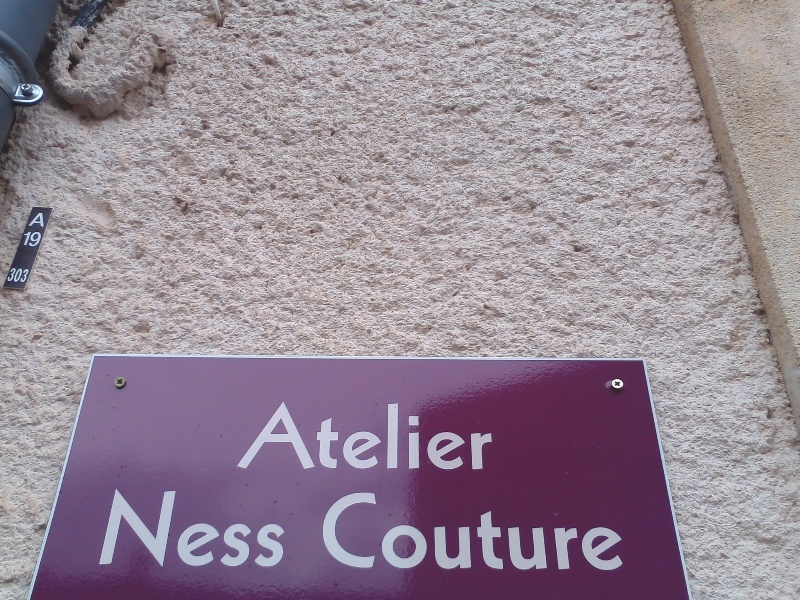text: (337, 490, 352, 577), (353, 490, 368, 577), (369, 490, 384, 577), (385, 490, 400, 577), (401, 490, 416, 577), (417, 490, 432, 577), (433, 490, 448, 577), (449, 490, 464, 577), (465, 490, 480, 577), (481, 490, 496, 577), (497, 490, 512, 577), (513, 490, 528, 577), (529, 490, 544, 577), (545, 490, 560, 577), (561, 490, 576, 577), (577, 490, 592, 577), (593, 490, 608, 577), (609, 490, 624, 577), (113, 488, 128, 570), (129, 488, 144, 570), (145, 488, 160, 570), (161, 488, 176, 570), (177, 488, 192, 570), (193, 488, 208, 570), (209, 488, 224, 570), (225, 488, 240, 570), (241, 488, 256, 570), (257, 488, 272, 570), (273, 488, 288, 570), (289, 399, 304, 472), (305, 399, 320, 472), (321, 399, 336, 472), (337, 399, 352, 472), (353, 399, 368, 472), (369, 399, 384, 472), (385, 399, 400, 472), (401, 399, 416, 472), (417, 399, 432, 472), (433, 399, 448, 472), (449, 399, 464, 472), (465, 399, 480, 472), (481, 399, 493, 472), (327, 490, 336, 577), (283, 399, 288, 472), (33, 210, 48, 230), (625, 490, 628, 577), (17, 267, 32, 284), (33, 229, 43, 249), (24, 229, 32, 249), (11, 267, 16, 284), (111, 488, 112, 570), (289, 488, 290, 570), (49, 210, 51, 230), (31, 210, 32, 230)
